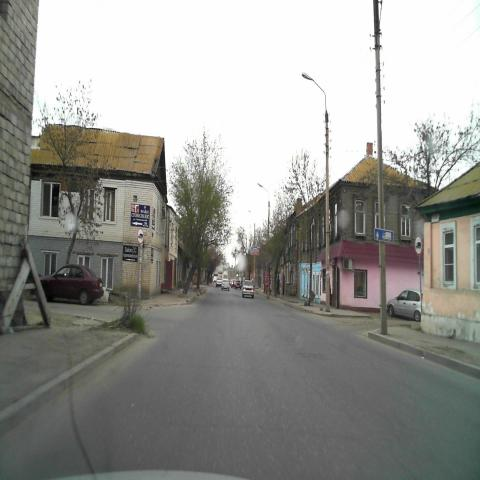6_15_1: (374, 228, 394, 244)
